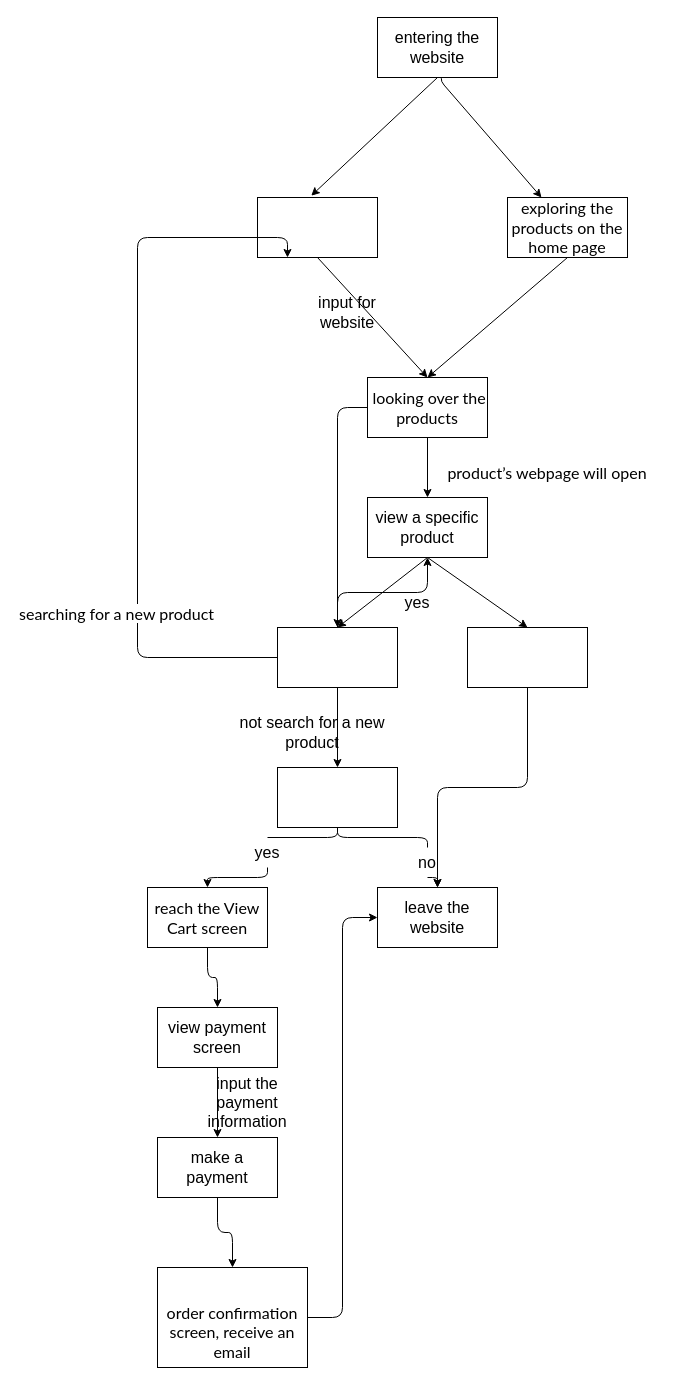
The diagram is 674 pixels wide and 1385 high, and some of its shapes have lost their labels. Each missing label, with the centre of its shape:
"add this item to their cart, receive an added to cart confirmation" goes at pixel 527 657.
"check out" goes at pixel 337 797.
"continue shopping" goes at pixel 337 657.
"searching for a product" goes at pixel 317 227.
